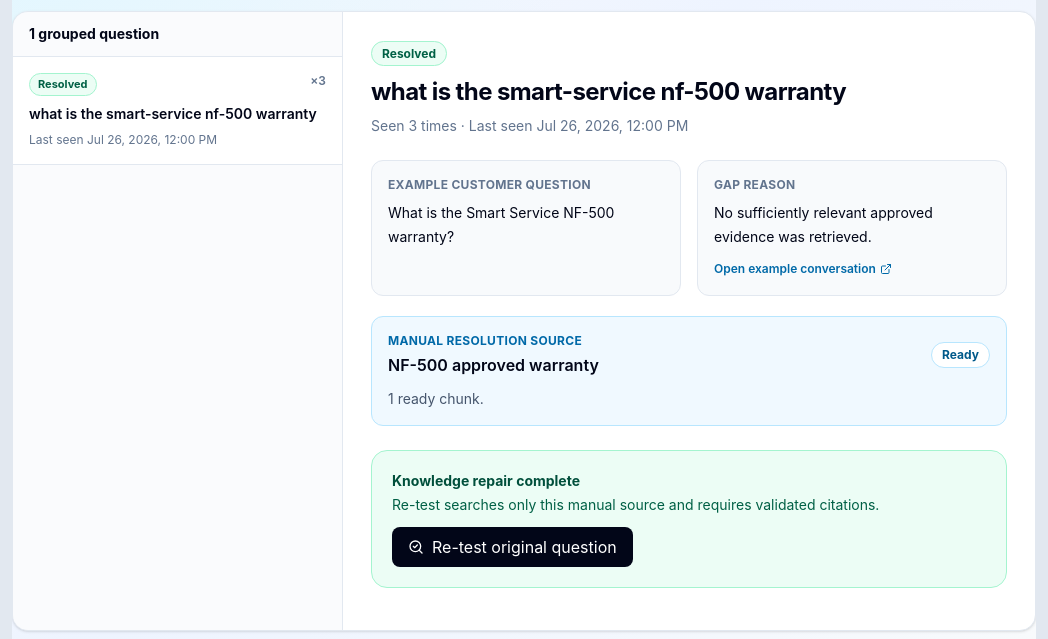
Scenario: Day 5 analytics workspaces › re-tests a resolved gap and displays its validated manual citation
The width and height of the screenshot is (1048, 639).
What coordinates should you click on to do the following:
click the button "Re-test original question"
I would click on:
 (512, 547)
Its box is [392, 527, 633, 567].
(page scrolled)
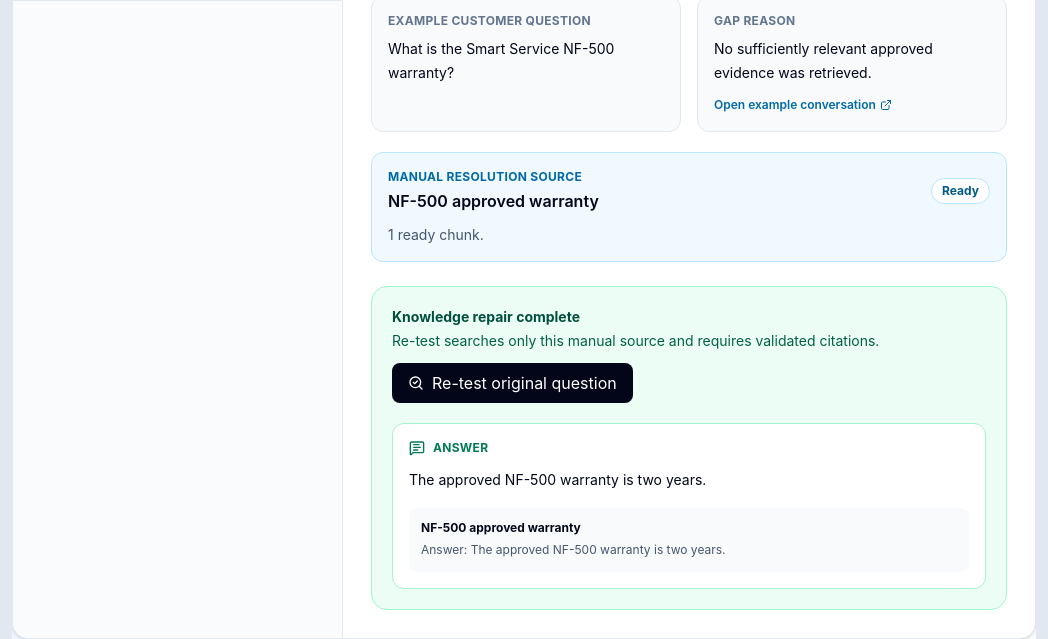
Check: the text "The approved NF-500 warranty is two years." is shown, box [409, 471, 706, 488]
Check: the text "Answer: The approved NF-500 warranty is two years." is shown, box [421, 542, 726, 557]
